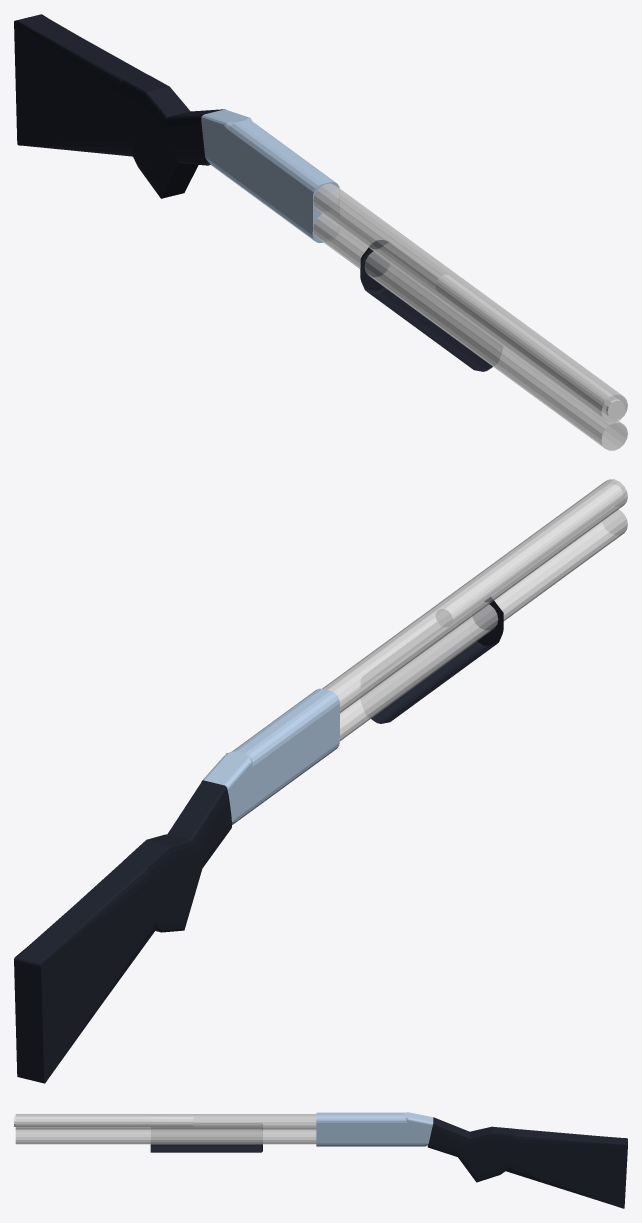
The picture shows the model from 3 angles, top to bottom: view 1: azimuth 30°, elevation 25°; view 2: azimuth 150°, elevation 25°; view 3: azimuth 270°, elevation 25°; orthographic projection. The views are drawn at different scales.
Parts seen in each view (by area): view 1: M870_Stock, M870_Barrels, M870_Body_And_Trigger, M870_Slide, M870_Barrel_Subtract; view 2: M870_Stock, M870_Barrels, M870_Body_And_Trigger, M870_Slide, M870_Barrel_Subtract; view 3: M870_Stock, M870_Barrels, M870_Body_And_Trigger, M870_Slide, M870_Barrel_Subtract.
Boxes of the visible parts, box(x1,y1,x2,y2) form: M870_Stock: box(14, 14, 225, 198); M870_Barrels: box(313, 183, 627, 450); M870_Body_And_Trigger: box(201, 109, 339, 242); M870_Slide: box(360, 240, 492, 371); M870_Barrel_Subtract: box(436, 275, 624, 418); M870_Stock: box(14, 780, 231, 1083); M870_Barrels: box(322, 479, 627, 740); M870_Body_And_Trigger: box(201, 688, 339, 824); M870_Slide: box(371, 596, 503, 723); M870_Barrel_Subtract: box(438, 486, 621, 626); M870_Stock: box(427, 1117, 627, 1208); M870_Barrels: box(15, 1114, 316, 1144); M870_Body_And_Trigger: box(316, 1112, 433, 1146); M870_Slide: box(150, 1123, 262, 1152); M870_Barrel_Subtract: box(14, 1116, 192, 1126).
Size of the model in its own units: 36 by 162 by 987.
